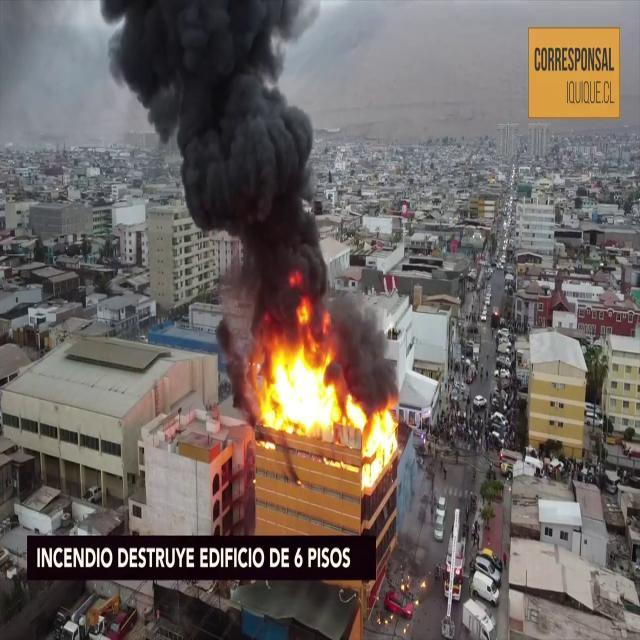Fire: (252, 314, 349, 439), (359, 396, 401, 487)
Smoke: (109, 0, 366, 324), (326, 267, 402, 394)
